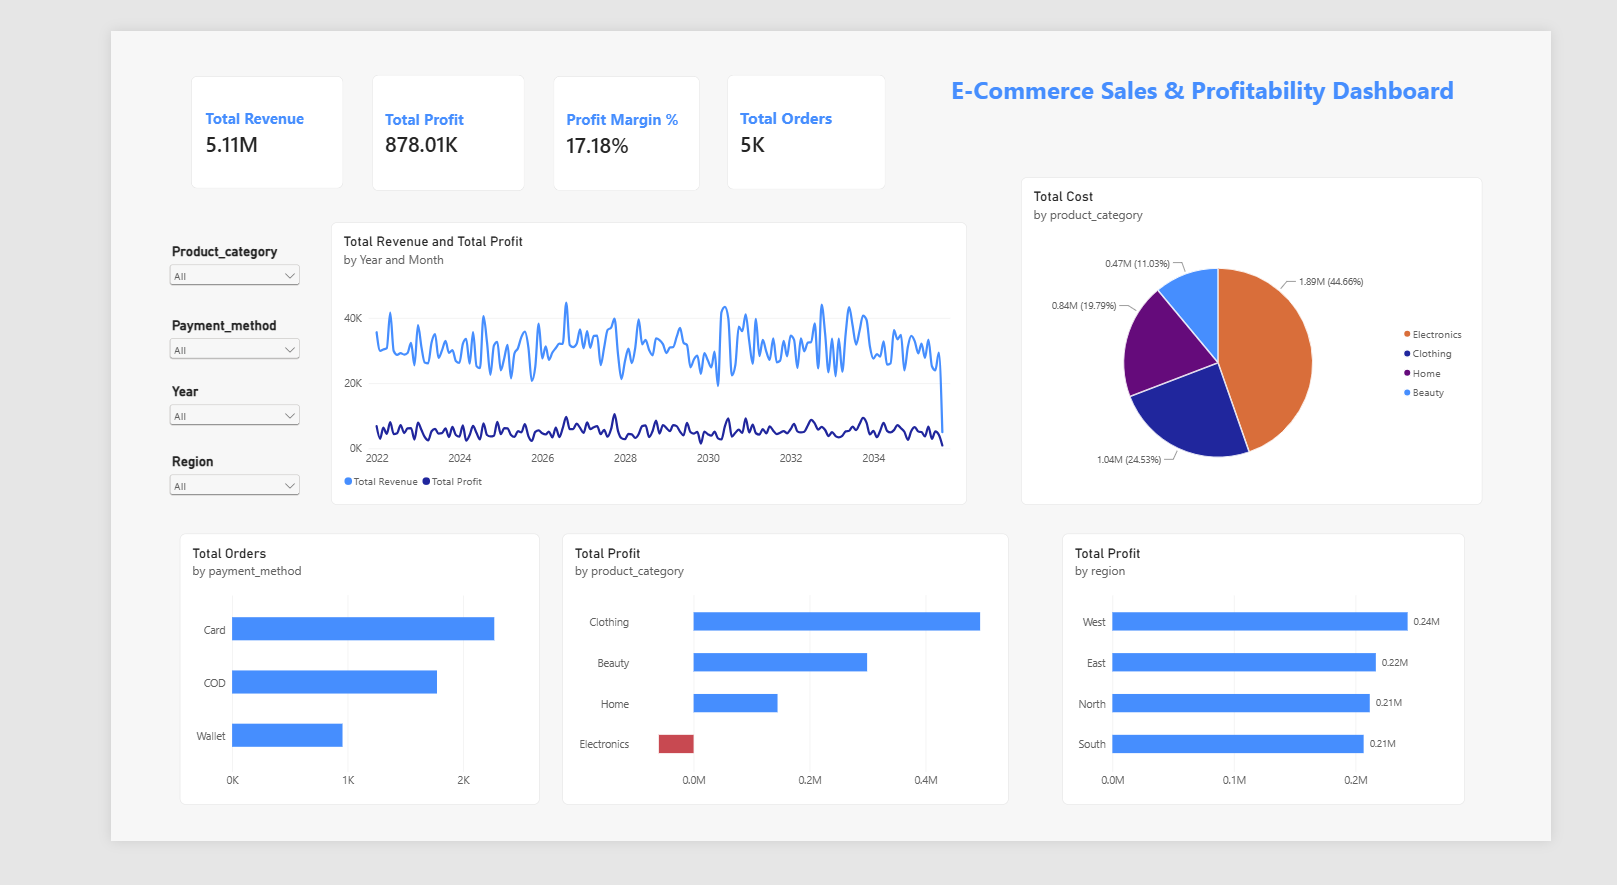

The page's visual inventory and layout, read from the dashboard file:
{"tool":"powerbi","page":{"name":"Page 1","canvas":[1920,1080],"ordinal":0},"visuals":[{"type":"cardVisual","fields":{"Data":["cleaned_ecommerce_sales.Total Revenue"]},"box":[106.7,60,203.8,150.3],"z":0},{"type":"cardVisual","fields":{"Data":["cleaned_ecommerce_sales.Total Profit"]},"box":[348.3,58.3,203.3,155],"z":1000},{"type":"cardVisual","fields":{"Data":["cleaned_ecommerce_sales.Profit Margin %"]},"box":[590,60,195,153.3],"z":2000},{"type":"cardVisual","fields":{"Data":["cleaned_ecommerce_sales.Total Orders"]},"box":[821.7,58.3,211.7,153.3],"z":3000},{"type":"lineChart","fields":{"Category":["cleaned_ecommerce_sales.order_date.Variation.Date Hierarchy.Year","cleaned_ecommerce_sales.order_date.Variation.Date Hierarchy.Month"],"Y":["cleaned_ecommerce_sales.Total Revenue","cleaned_ecommerce_sales.Total Profit"]},"box":[293.3,255,848.3,376.7],"z":4000},{"type":"clusteredBarChart","fields":{"Category":["cleaned_ecommerce_sales.product_category"],"Y":["cleaned_ecommerce_sales.Total Profit"]},"box":[601.7,670,595,361.7],"z":5000},{"type":"barChart","fields":{"Category":["cleaned_ecommerce_sales.region"],"Y":["cleaned_ecommerce_sales.Total Profit"]},"box":[1268.3,670,536.7,361.7],"z":6000},{"type":"pieChart","fields":{"Category":["cleaned_ecommerce_sales.product_category"],"Y":["cleaned_ecommerce_sales.Total Cost"]},"box":[1213.3,195,615,436.7],"z":7000},{"type":"barChart","fields":{"Category":["cleaned_ecommerce_sales.payment_method"],"Y":["cleaned_ecommerce_sales.Total Orders"]},"box":[91.7,670,480,361.7],"z":8000},{"type":"slicer","title":"Region","fields":{"Values":["cleaned_ecommerce_sales.region"]},"box":[73.3,563.3,183.3,68.3],"z":9000},{"type":"slicer","fields":{"Values":["cleaned_ecommerce_sales.product_category"]},"box":[73.3,283.3,183.3,63.3],"z":10000},{"type":"slicer","fields":{"Values":["cleaned_ecommerce_sales.payment_method"]},"box":[73.3,381.7,183.3,61.7],"z":10001},{"type":"slicer","fields":{"Values":["cleaned_ecommerce_sales.order_date.Variation.Date Hierarchy.Year"]},"box":[73.3,470,183.3,70],"z":10002},{"type":"textbox","box":[1120,56.7,708.3,61.7],"z":10003}]}

Visuals, with their boxes in screenshot pixels (x1, y1, x2, y2), scaled from the page's 1920x1080 canvas onto the 1617x885 screenshot:
cardVisual - cleaned_ecommerce_sales.Total Revenue: x1=90 y1=49 x2=261 y2=172
cardVisual - cleaned_ecommerce_sales.Total Profit: x1=293 y1=48 x2=465 y2=175
cardVisual - cleaned_ecommerce_sales.Profit Margin %: x1=497 y1=49 x2=661 y2=175
cardVisual - cleaned_ecommerce_sales.Total Orders: x1=692 y1=48 x2=870 y2=173
lineChart - cleaned_ecommerce_sales.order_date.Variation.Date Hierarchy.Year x cleaned_ecommerce_sales.order_date.Variation.Date Hierarchy.Month: x1=247 y1=209 x2=961 y2=518
clusteredBarChart - cleaned_ecommerce_sales.product_category x cleaned_ecommerce_sales.Total Profit: x1=507 y1=549 x2=1008 y2=845
barChart - cleaned_ecommerce_sales.region x cleaned_ecommerce_sales.Total Profit: x1=1068 y1=549 x2=1520 y2=845
pieChart - cleaned_ecommerce_sales.product_category x cleaned_ecommerce_sales.Total Cost: x1=1022 y1=160 x2=1540 y2=518
barChart - cleaned_ecommerce_sales.payment_method x cleaned_ecommerce_sales.Total Orders: x1=77 y1=549 x2=481 y2=845
"Region" slicer: x1=62 y1=462 x2=216 y2=518
slicer - cleaned_ecommerce_sales.product_category: x1=62 y1=232 x2=216 y2=284
slicer - cleaned_ecommerce_sales.payment_method: x1=62 y1=313 x2=216 y2=363
slicer - cleaned_ecommerce_sales.order_date.Variation.Date Hierarchy.Year: x1=62 y1=385 x2=216 y2=442
textbox: x1=943 y1=46 x2=1540 y2=97
